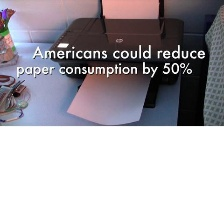book: (64, 63, 155, 126), (99, 0, 167, 51)
